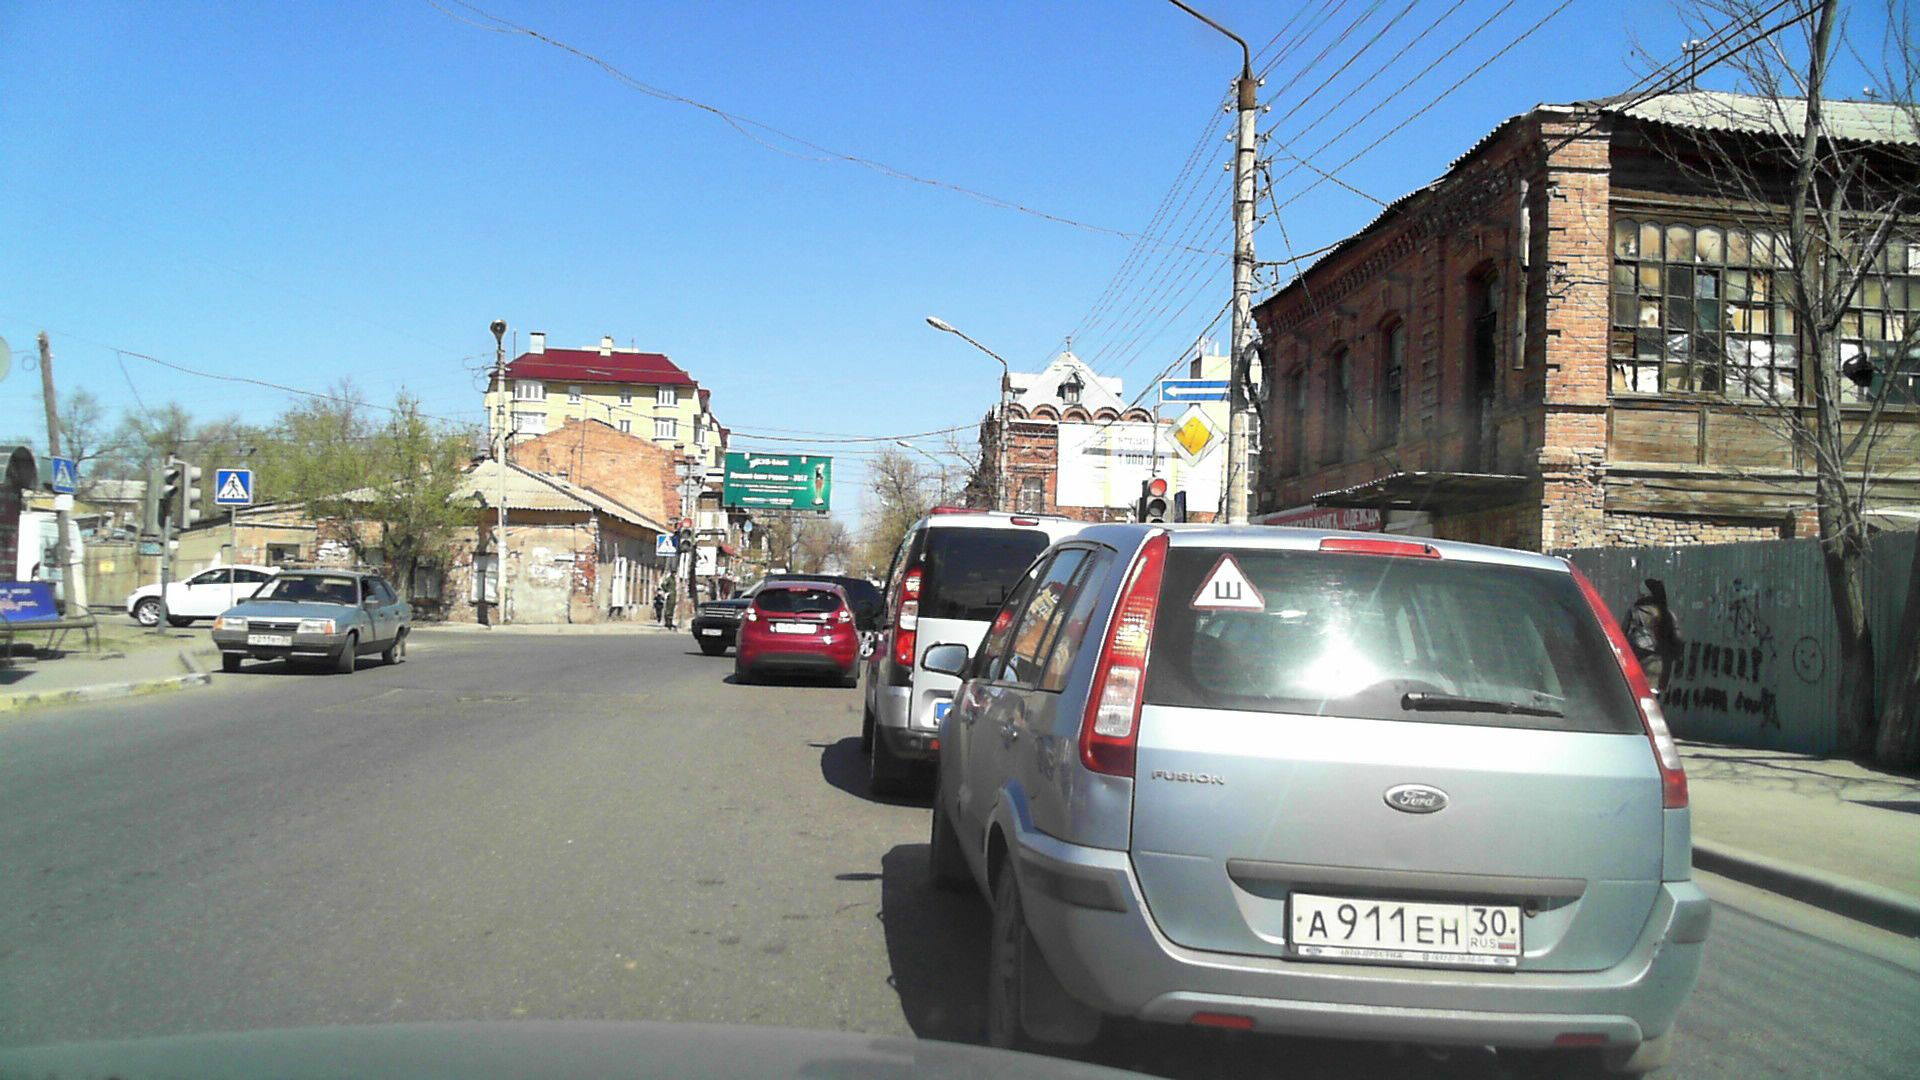One-Way Traffic: (1160, 380, 1232, 402)
Pedestrian Crossing: (216, 469, 251, 502)
